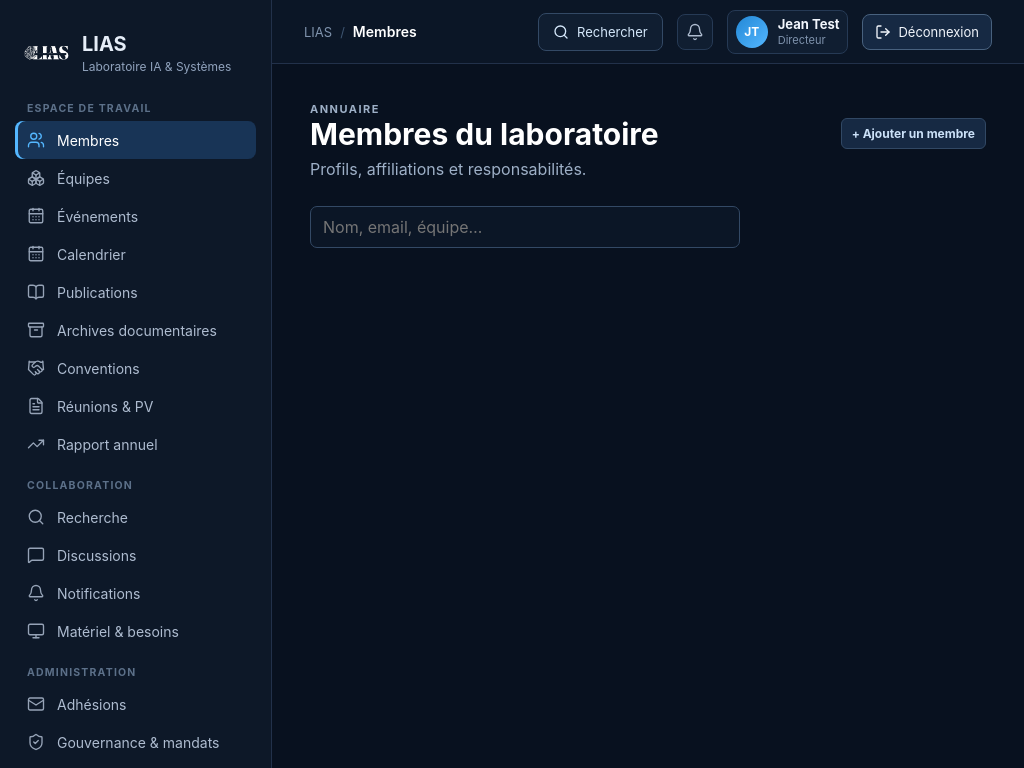
Navigation et session › ouvre les notifications puis revient aux membres sans page blanche
Click the button "Notifications".
click(136, 593)  # box [15,574,256,612]
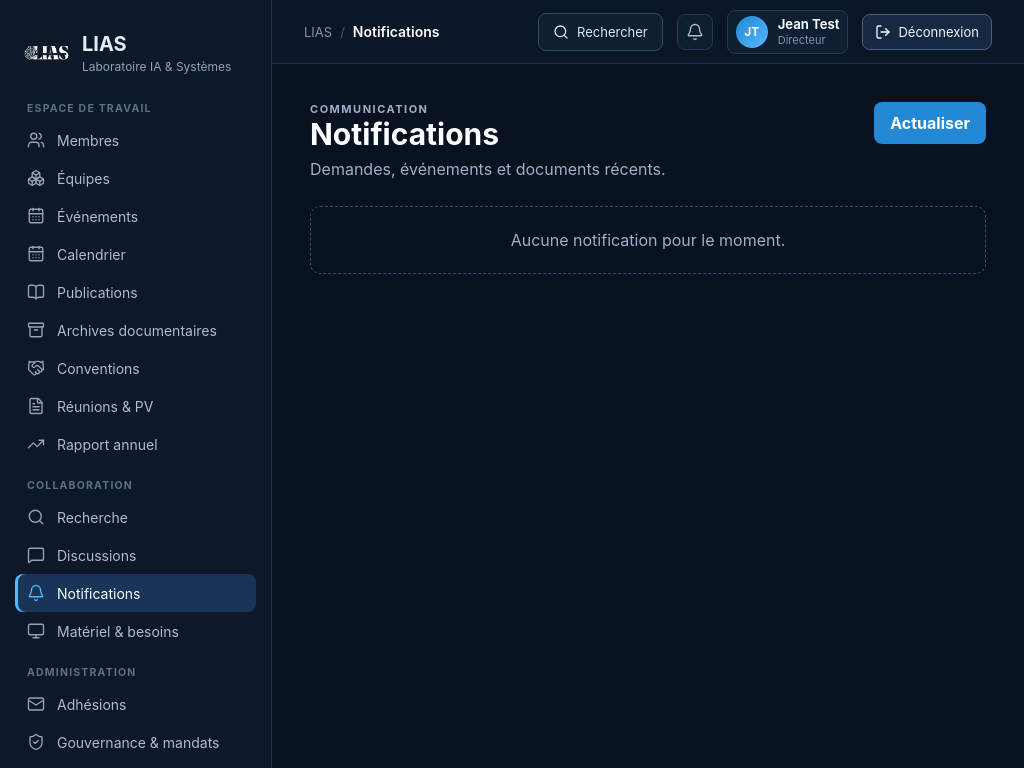
Check: the text "Aucune notification pour le moment." is shown, box [310,206,986,274]
Click the button "Membres".
click(136, 140)  # box [15,121,256,159]
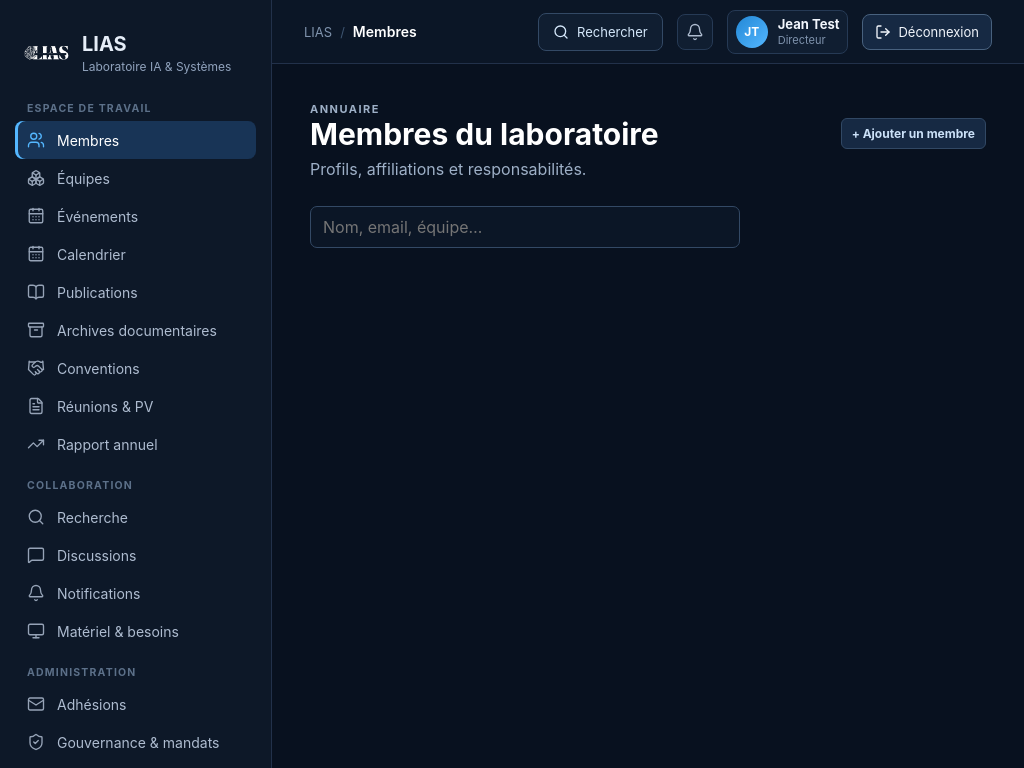
Check: the heading "Membres du laboratoire" is shown, box [310,116,659,152]
